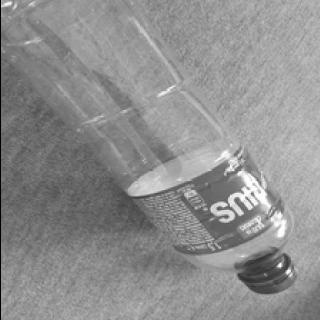plastic_bottles: (0, 0, 300, 298)
